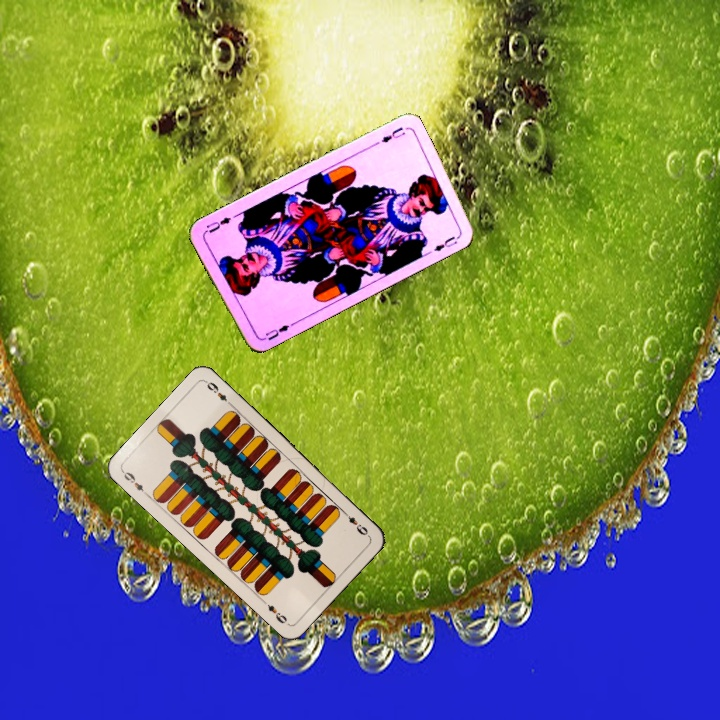E9: (339, 507, 372, 539), (119, 467, 151, 499)
EU: (258, 321, 292, 343), (377, 123, 408, 145)
